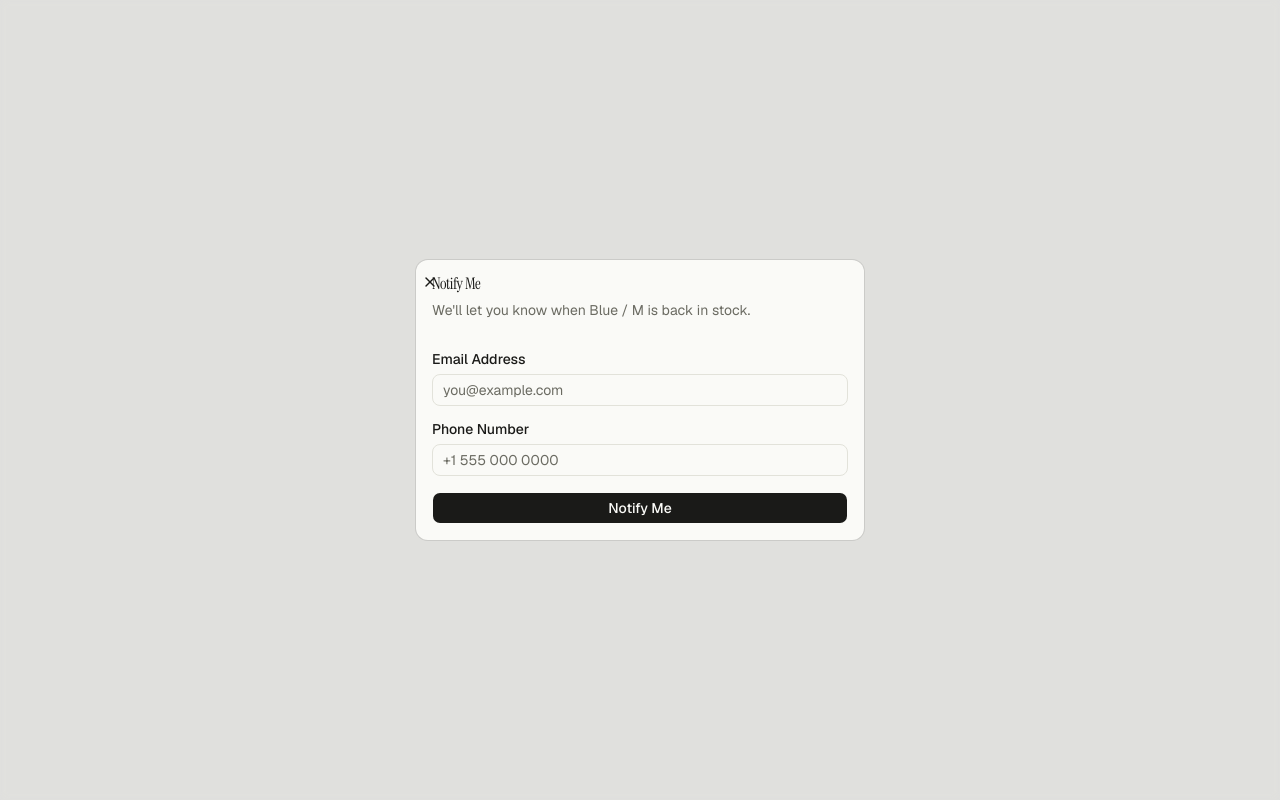
NotifyMeDialog › shows the invalid-phone error when the phone is malformed
The width and height of the screenshot is (1280, 800).
Type "a@b.com" into the field labelled "Email Address".
click(640, 390); type("a@b.com")  # box [432,374,848,406]
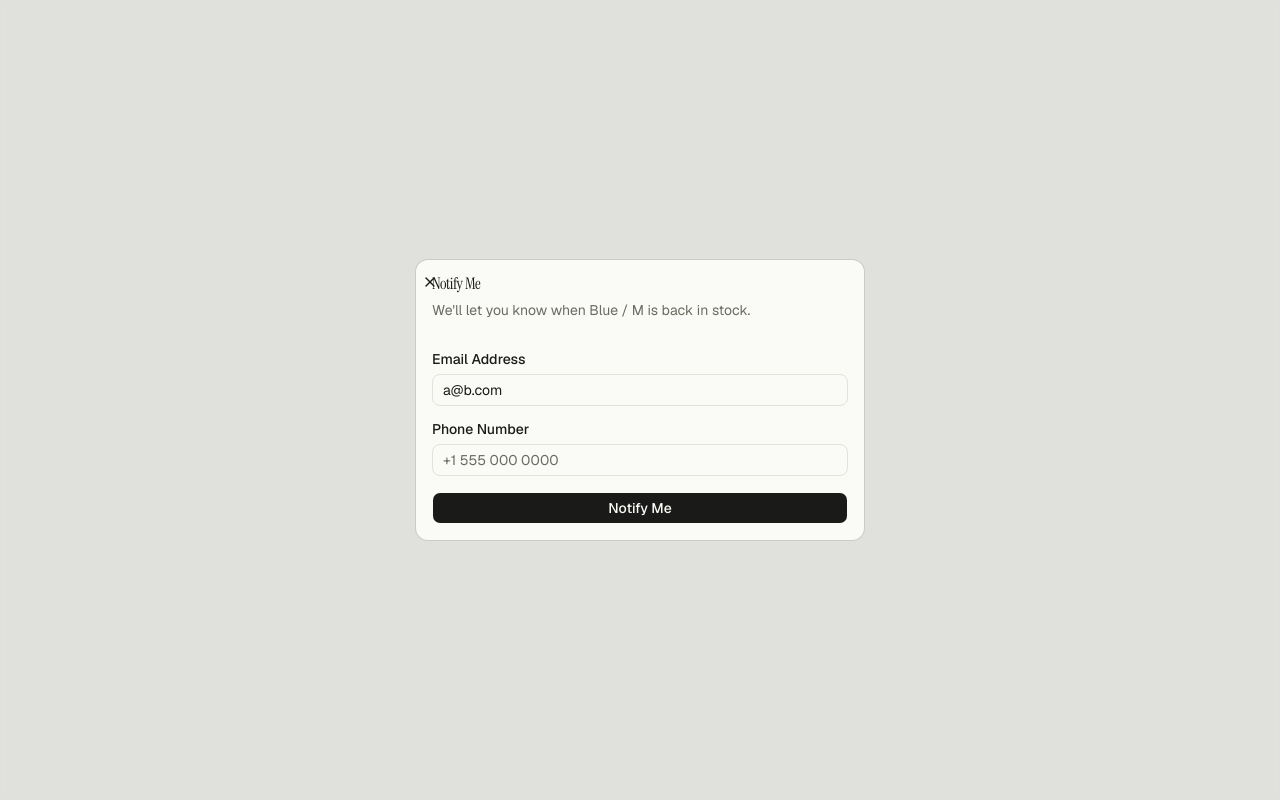
Type "abc" into the field labelled "Phone Number".
click(640, 460); type("abc")  # box [432,444,848,476]
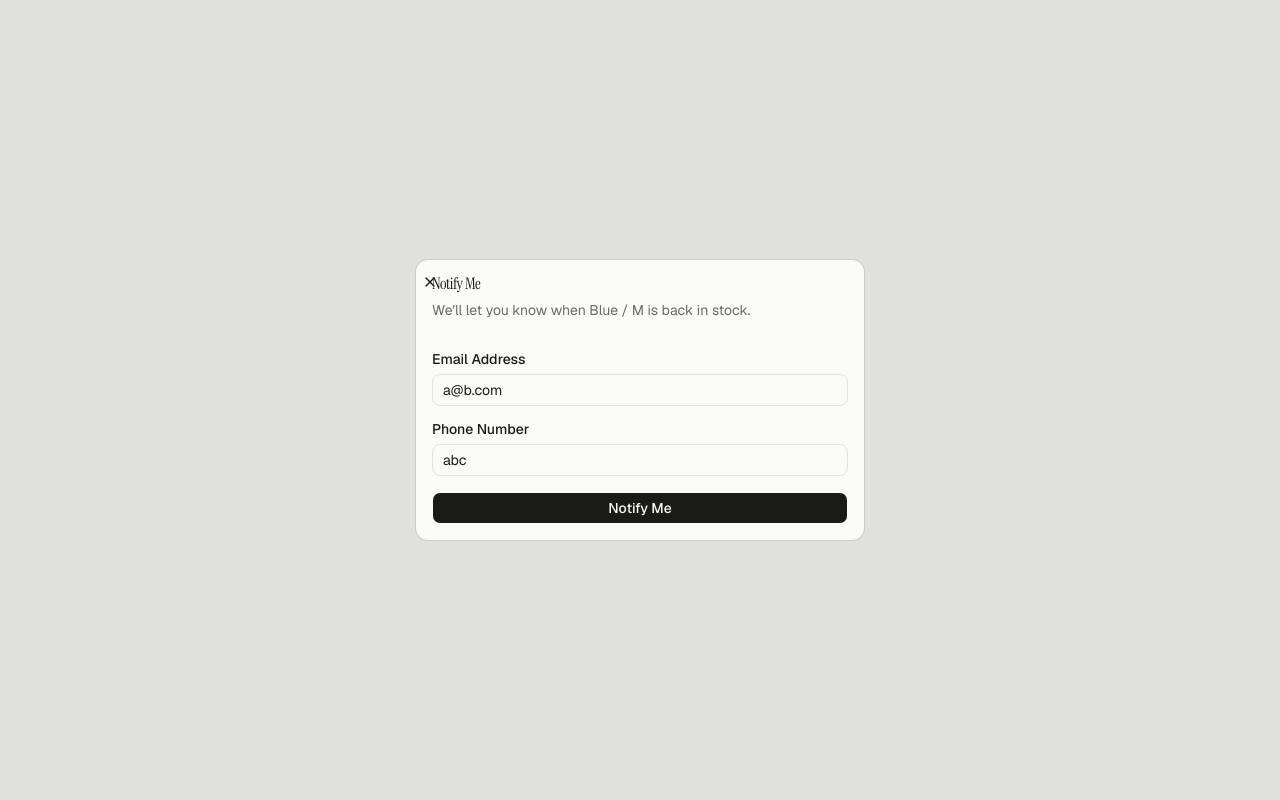
Click the button "Notify Me".
click(640, 508)  # box [432,492,848,524]
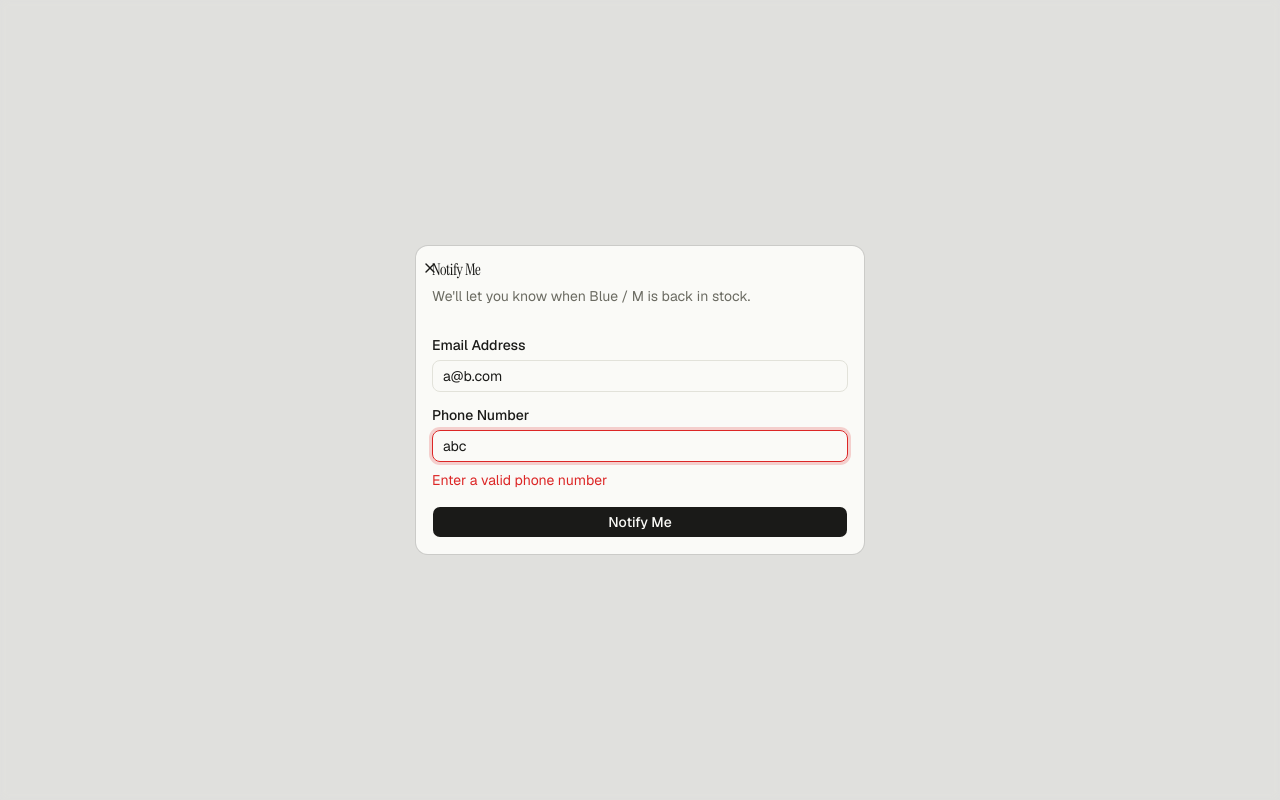
Expected: the text "Enter a valid phone number" is shown, [432,471,607,489]
